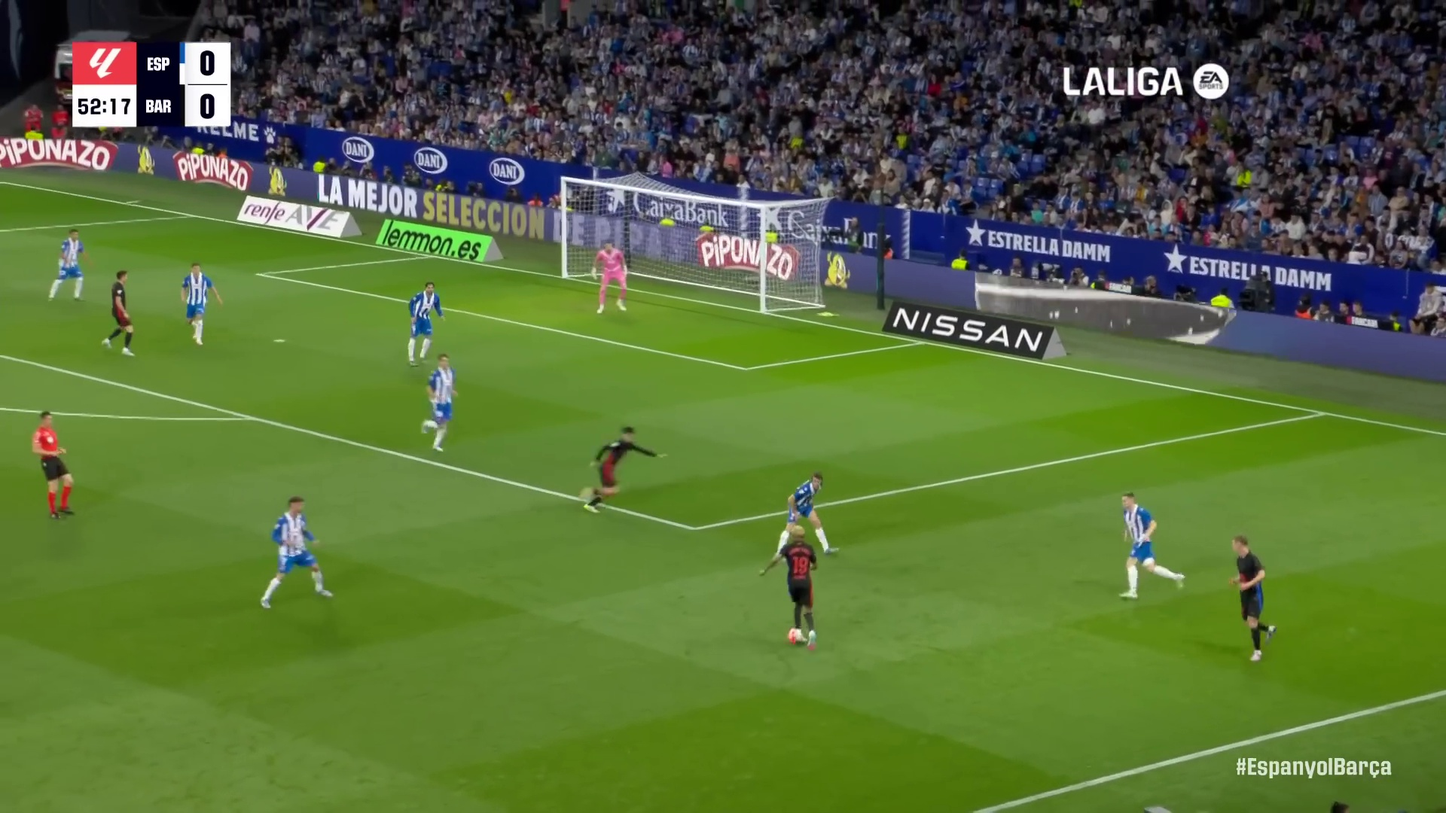ball: (788, 626, 798, 644)
player: (257, 495, 335, 611), (1112, 491, 1189, 603), (576, 424, 666, 516), (758, 529, 825, 651), (1223, 534, 1282, 664), (416, 353, 464, 453), (780, 471, 836, 554), (176, 261, 225, 348), (400, 281, 448, 366), (98, 269, 143, 358), (44, 228, 94, 304), (588, 240, 635, 317)
referee: (27, 410, 81, 522)
